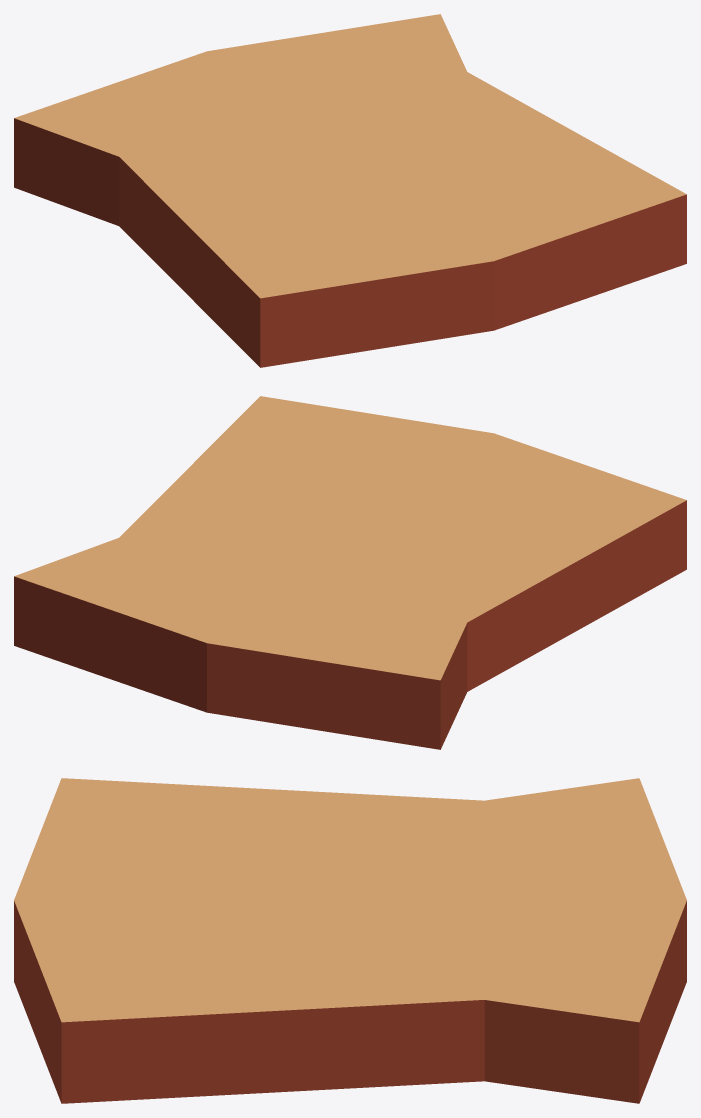
File: bred.glb
3 views of the same model, one above another, from view 1: azimuth 30°, elevation 25°; view 2: azimuth 150°, elevation 25°; view 3: azimuth 270°, elevation 25° (orthographic). The views are drawn at different scales.
Parts seen in each view (by area): view 1: Cube; view 2: Cube; view 3: Cube.
Part boxes in pixels (box(x1,y1,x2,y2)): Cube: box(14, 14, 686, 367); Cube: box(14, 396, 686, 749); Cube: box(14, 778, 686, 1103).
Bounding box in the file's own units: 0.2 × 0.0311 × 0.2329.
